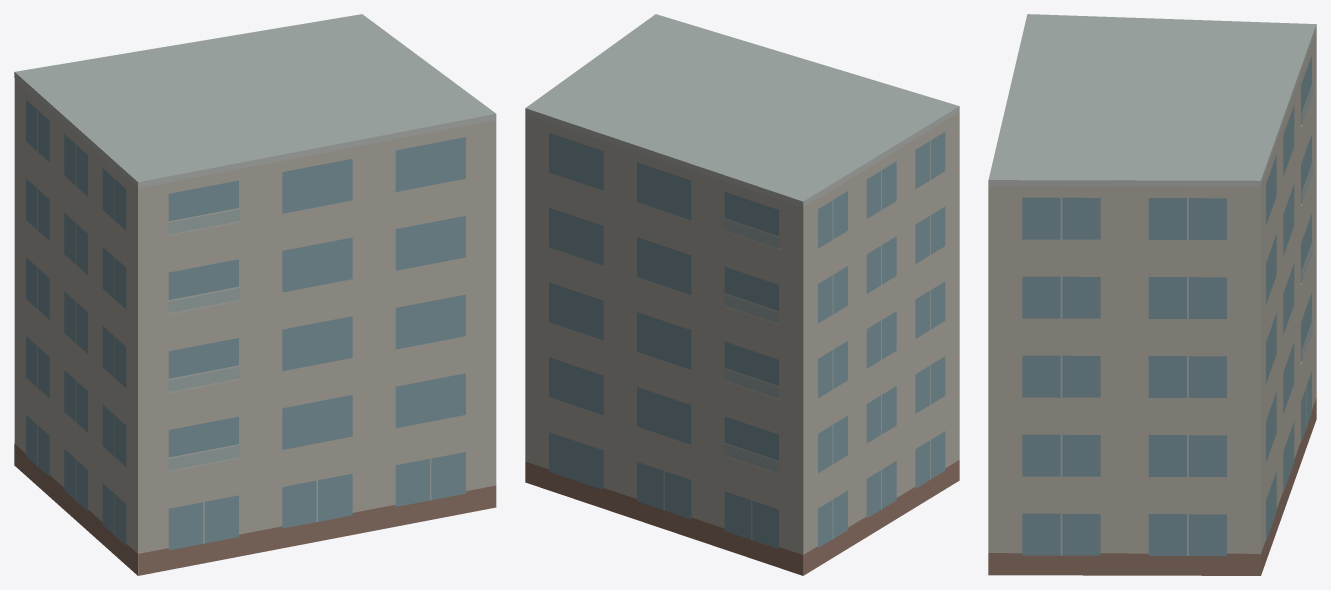
File: survey-upis-32981578.glb
The picture shows the model from 3 angles, left to right: view 1: azimuth 30°, elevation 25°; view 2: azimuth 150°, elevation 25°; view 3: azimuth 270°, elevation 25°; orthographic projection. The views are drawn at different scales.
Visible parts, largest first — view 1: survey-upis-32981578.tmp; view 2: survey-upis-32981578.tmp; view 3: survey-upis-32981578.tmp.
Boxes of the visible parts, <box> form: survey-upis-32981578.tmp: <box>14,14,496,575</box>; survey-upis-32981578.tmp: <box>525,14,959,575</box>; survey-upis-32981578.tmp: <box>988,14,1316,575</box>.
Size of the model in its own units: 14.04 by 15.5 by 11.67.
